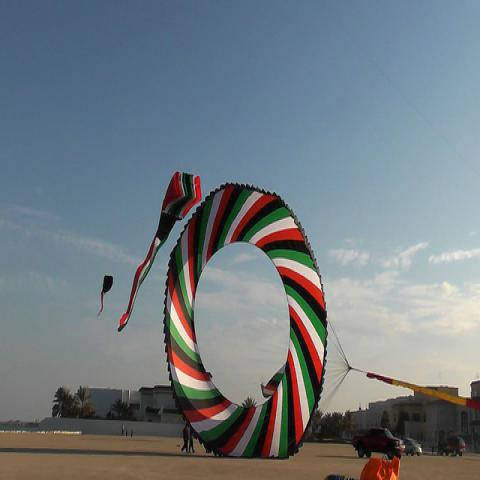car: (353, 427, 406, 461), (440, 435, 466, 457), (406, 438, 422, 454)
